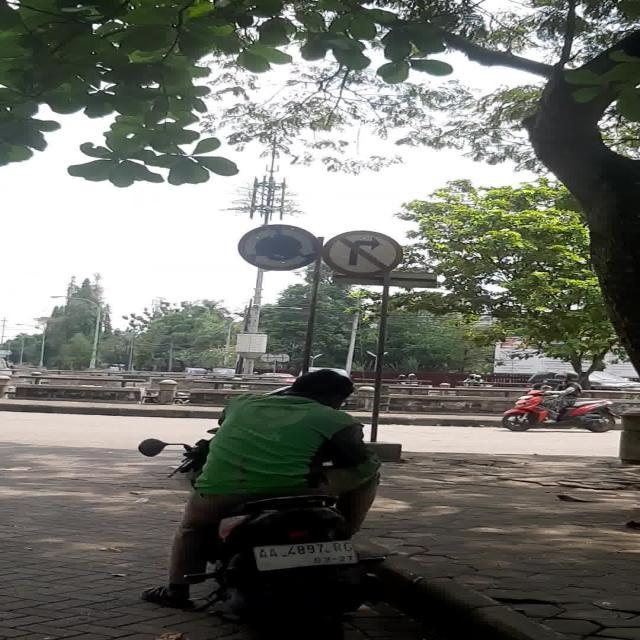Dilarang Belok Kanan: (322, 230, 403, 276)
